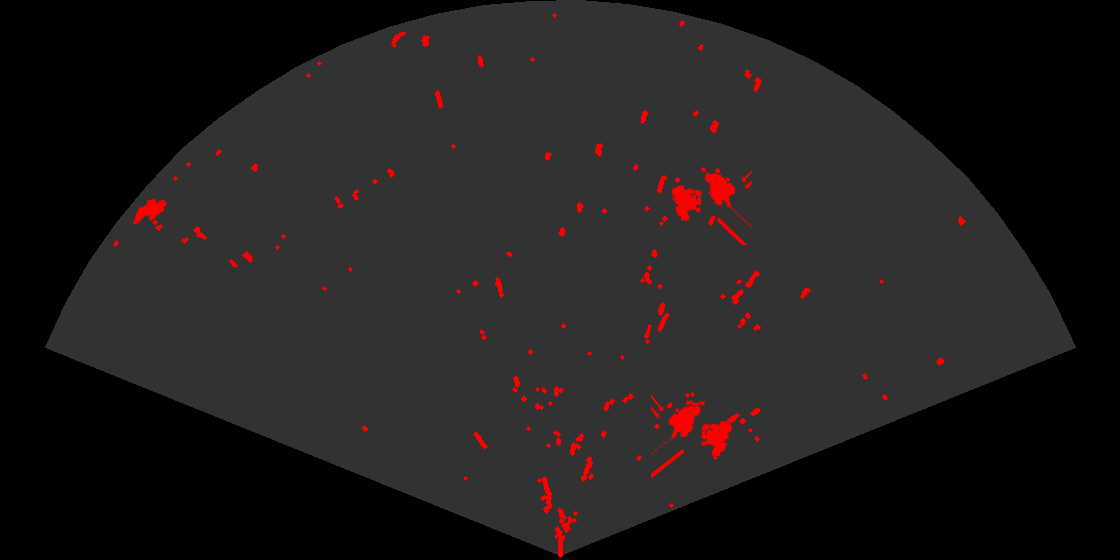AUV: (131, 197, 169, 226)
cage: (651, 393, 734, 478), (670, 166, 752, 245)
